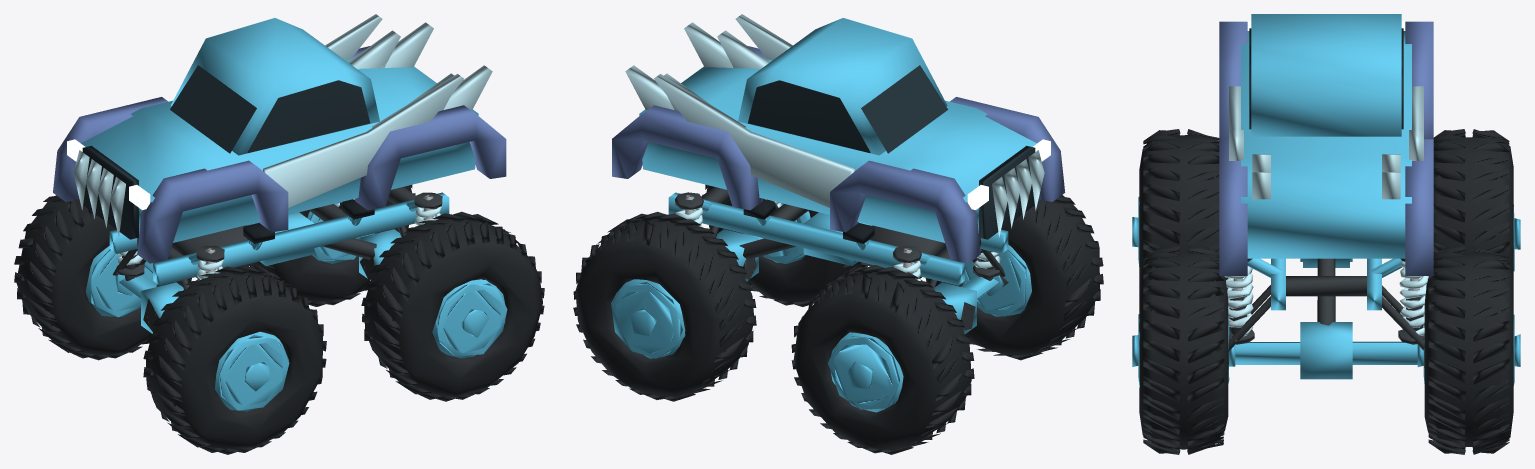
The model's file is IceFreeze_LOD2.fbx.
The picture shows the model from 3 angles, left to right: view 1: azimuth 30°, elevation 25°; view 2: azimuth 150°, elevation 25°; view 3: azimuth 270°, elevation 25°; orthographic projection. The views are drawn at different scales.
Visible parts, largest first — view 1: IceFreeze_LOD2_sprung_body_Geometry, IceFreeze_LOD2_RL_Spin_Geometry, IceFreeze_LOD2_FL_Spin_Geometry, IceFreeze_LOD2_FR_Spin_Geometry, IceFreeze_LOD2_RR_Spin_Geometry, IceFreeze_LOD2_FRONT_axle_Geometry, IceFreeze_LOD2_Root_Geometry, IceFreeze_LOD2_REAR_axle_Geometry, IceFreeze_LOD2_FRONT_shock_-1_Geometry, IceFreeze_LOD2_REAR_shock_-1_Geometry; view 2: IceFreeze_LOD2_sprung_body_Geometry, IceFreeze_LOD2_RR_Spin_Geometry, IceFreeze_LOD2_FR_Spin_Geometry, IceFreeze_LOD2_FL_Spin_Geometry, IceFreeze_LOD2_RL_Spin_Geometry, IceFreeze_LOD2_FRONT_axle_Geometry, IceFreeze_LOD2_Root_Geometry, IceFreeze_LOD2_REAR_axle_Geometry, IceFreeze_LOD2_FRONT_shock_1_Geometry, IceFreeze_LOD2_REAR_shock_1_Geometry; view 3: IceFreeze_LOD2_sprung_body_Geometry, IceFreeze_LOD2_RL_Spin_Geometry, IceFreeze_LOD2_RR_Spin_Geometry, IceFreeze_LOD2_FR_Spin_Geometry, IceFreeze_LOD2_FL_Spin_Geometry, IceFreeze_LOD2_REAR_axle_Geometry, IceFreeze_LOD2_Root_Geometry, IceFreeze_LOD2_REAR_shock_-1_Geometry, IceFreeze_LOD2_REAR_shock_1_Geometry.
Part boxes in pixels (<box>): IceFreeze_LOD2_sprung_body_Geometry: <box>53,14,506,285</box>; IceFreeze_LOD2_RL_Spin_Geometry: <box>361,211,544,401</box>; IceFreeze_LOD2_FL_Spin_Geometry: <box>143,265,326,454</box>; IceFreeze_LOD2_FR_Spin_Geometry: <box>14,195,191,360</box>; IceFreeze_LOD2_RR_Spin_Geometry: <box>250,185,415,306</box>; IceFreeze_LOD2_FRONT_axle_Geometry: <box>119,275,183,333</box>; IceFreeze_LOD2_Root_Geometry: <box>112,199,406,290</box>; IceFreeze_LOD2_REAR_axle_Geometry: <box>355,229,401,280</box>; IceFreeze_LOD2_FRONT_shock_-1_Geometry: <box>196,245,224,280</box>; IceFreeze_LOD2_REAR_shock_-1_Geometry: <box>414,192,442,225</box>; IceFreeze_LOD2_sprung_body_Geometry: <box>612,14,1065,285</box>; IceFreeze_LOD2_RR_Spin_Geometry: <box>573,211,756,401</box>; IceFreeze_LOD2_FR_Spin_Geometry: <box>791,265,974,454</box>; IceFreeze_LOD2_FL_Spin_Geometry: <box>925,195,1103,360</box>; IceFreeze_LOD2_RL_Spin_Geometry: <box>702,184,867,306</box>; IceFreeze_LOD2_FRONT_axle_Geometry: <box>934,275,1008,333</box>; IceFreeze_LOD2_Root_Geometry: <box>711,199,1005,289</box>; IceFreeze_LOD2_REAR_axle_Geometry: <box>716,229,763,281</box>; IceFreeze_LOD2_FRONT_shock_1_Geometry: <box>893,245,921,280</box>; IceFreeze_LOD2_REAR_shock_1_Geometry: <box>675,192,703,227</box>; IceFreeze_LOD2_sprung_body_Geometry: <box>1219,14,1433,310</box>; IceFreeze_LOD2_RL_Spin_Geometry: <box>1132,246,1235,454</box>; IceFreeze_LOD2_RR_Spin_Geometry: <box>1417,246,1520,454</box>; IceFreeze_LOD2_FR_Spin_Geometry: <box>1433,129,1520,282</box>; IceFreeze_LOD2_FL_Spin_Geometry: <box>1132,129,1228,284</box>; IceFreeze_LOD2_REAR_axle_Geometry: <box>1228,322,1424,379</box>; IceFreeze_LOD2_Root_Geometry: <box>1228,258,1424,351</box>; IceFreeze_LOD2_REAR_shock_-1_Geometry: <box>1224,258,1254,344</box>; IceFreeze_LOD2_REAR_shock_1_Geometry: <box>1398,258,1428,344</box>.
Bounding box in the file's own units: 517 × 418 × 414.
